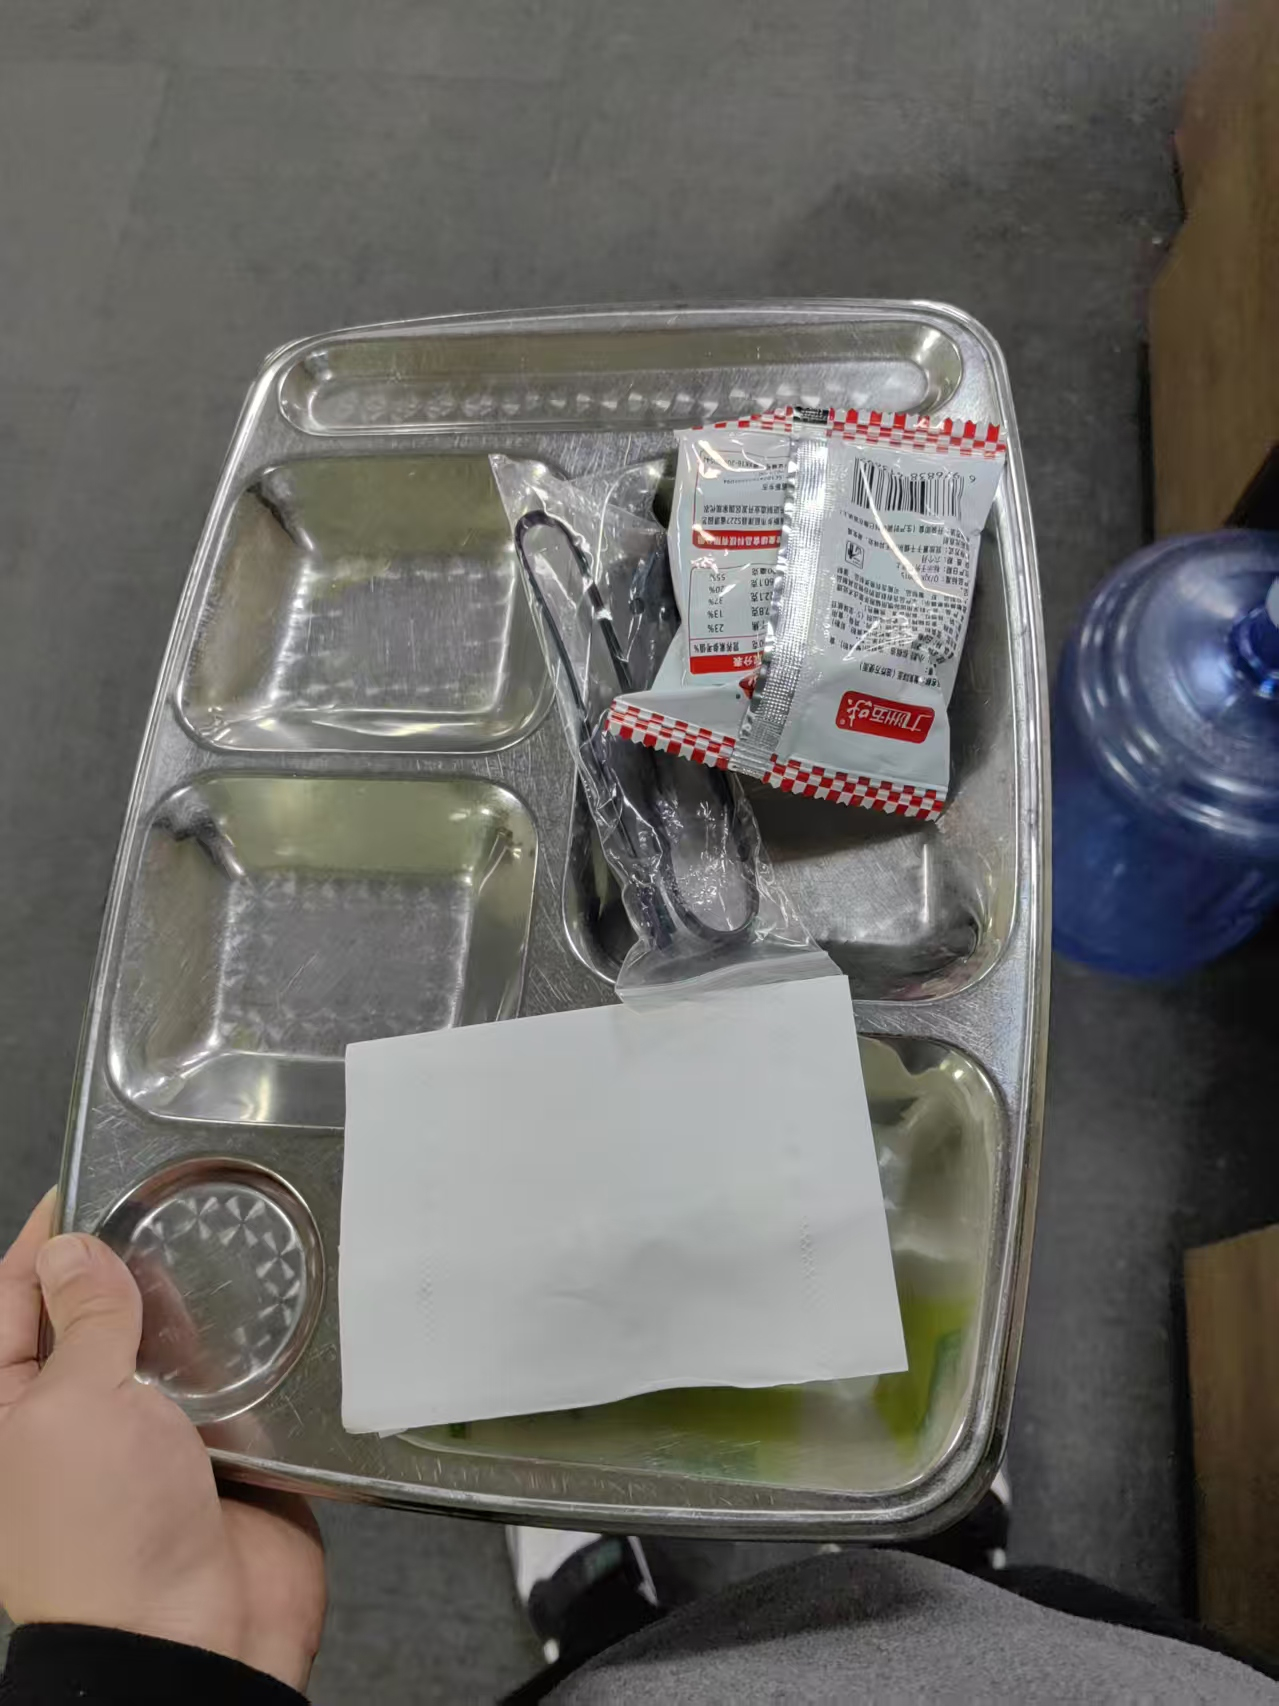moderate: (487, 406, 1005, 975)
plate: (49, 293, 1057, 1547)
tissue: (336, 977, 913, 1429)
